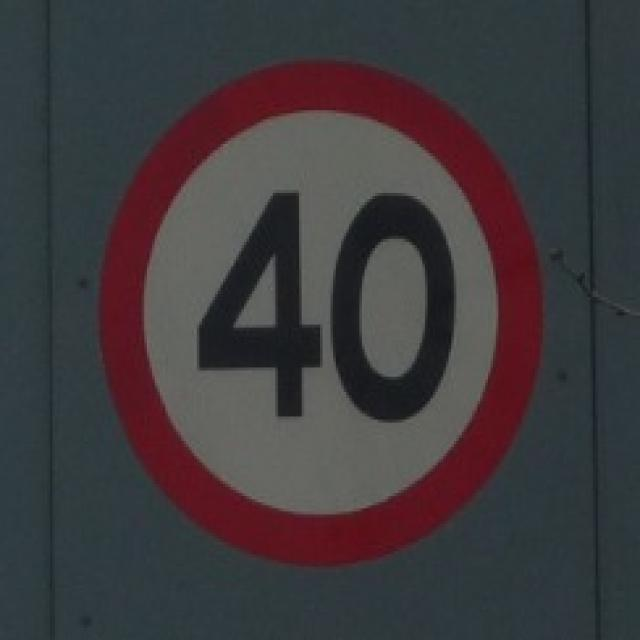Speed Limit -40-: (188, 187, 463, 423)
